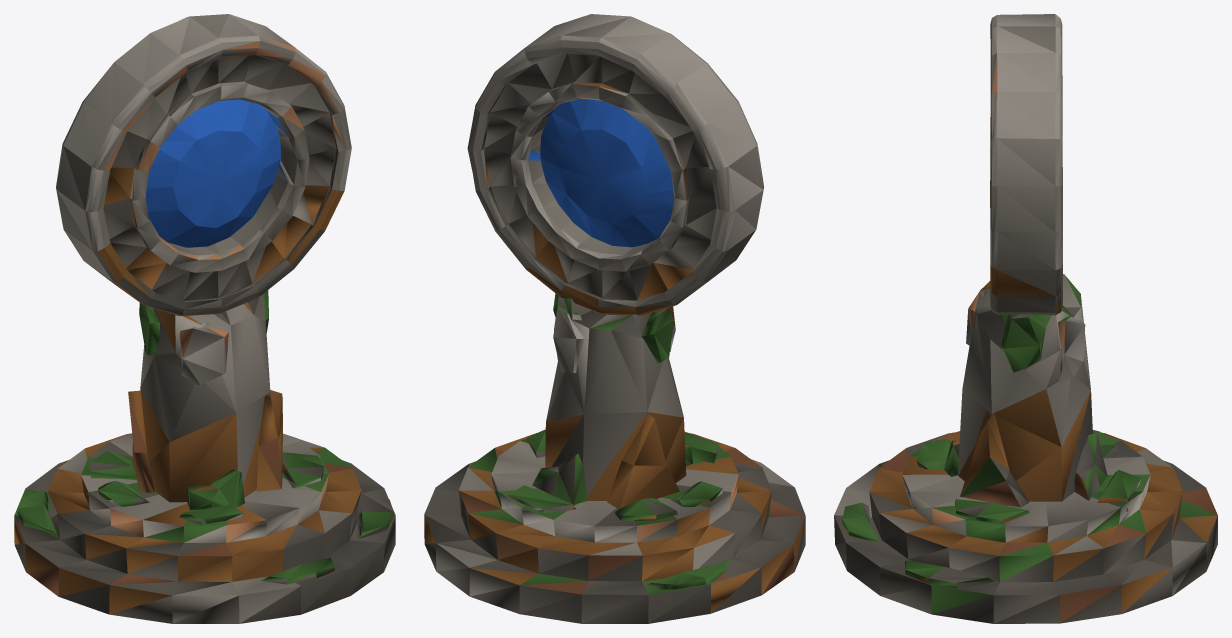
The model's file is building.seer_stone.glb.
3 views of the same model, side by side, from view 1: azimuth 30°, elevation 25°; view 2: azimuth 150°, elevation 25°; view 3: azimuth 270°, elevation 25° (orthographic).
Visible parts, largest first — view 1: asset; view 2: asset; view 3: asset.
Part boxes in pixels (x1,y1,x2,y2): asset: (14,14,395,623); asset: (424,14,805,623); asset: (834,14,1217,623).
Bounding box in the file's own units: 1.98 × 3 × 2.02.
